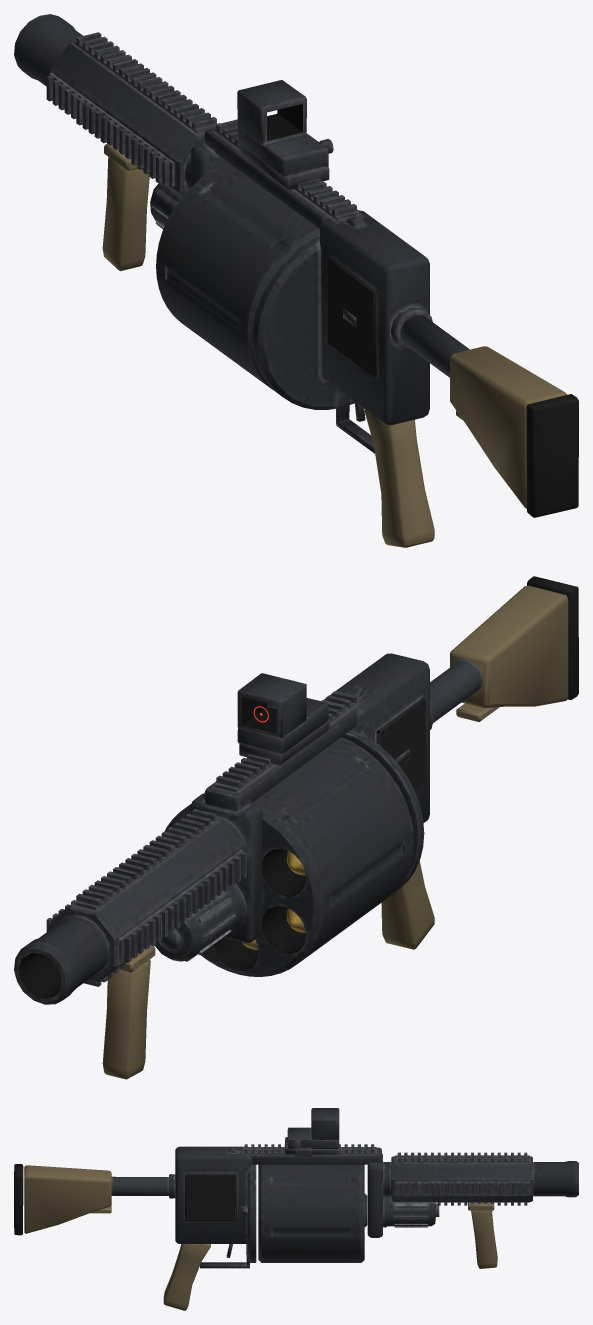
Rendered from grenade_launcher.glb.
3 views of the same model, one above another, from view 1: azimuth 30°, elevation 25°; view 2: azimuth 150°, elevation 25°; view 3: azimuth 270°, elevation 25° (orthographic). The views are drawn at different scales.
Parts seen in each view (by area): view 1: GrenadeLauncher, cylinder; view 2: GrenadeLauncher, cylinder; view 3: GrenadeLauncher, cylinder.
Boxes of the visible parts, x1,y1,x2,y2 form: GrenadeLauncher: [14, 14, 578, 547]; cylinder: [156, 162, 319, 389]; GrenadeLauncher: [14, 576, 578, 1079]; cylinder: [165, 737, 413, 976]; GrenadeLauncher: [14, 1108, 578, 1310]; cylinder: [258, 1164, 367, 1262].
Bounding box in the file's own units: 0.1581 × 0.3208 × 0.849.
2 materials, 1 textured.
